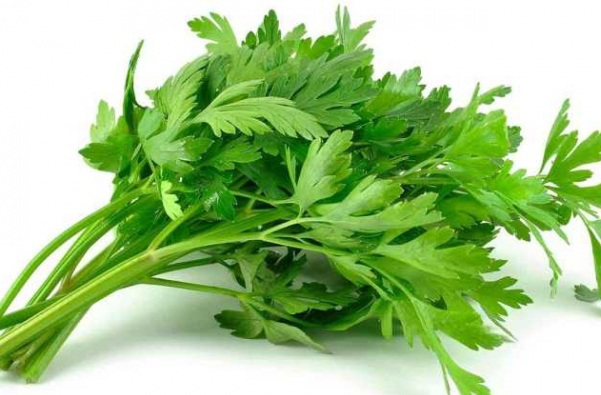Seledri: (75, 40, 536, 387)
